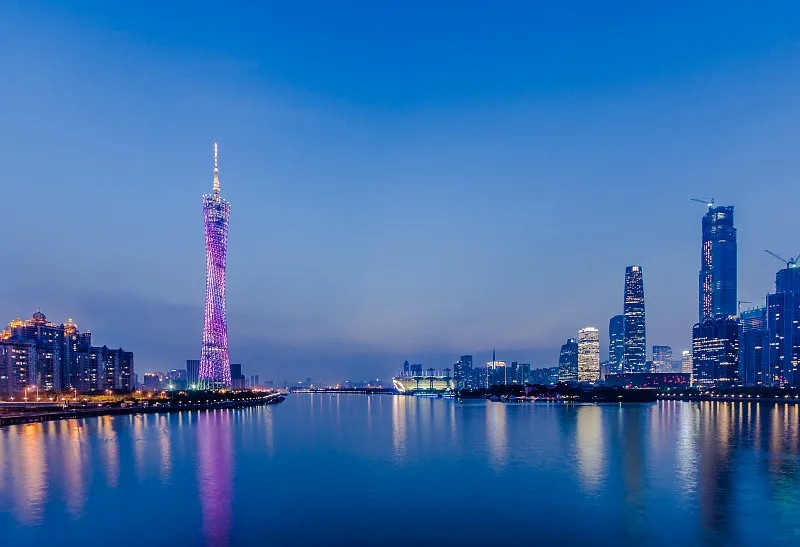Canton: (196, 143, 234, 391)
